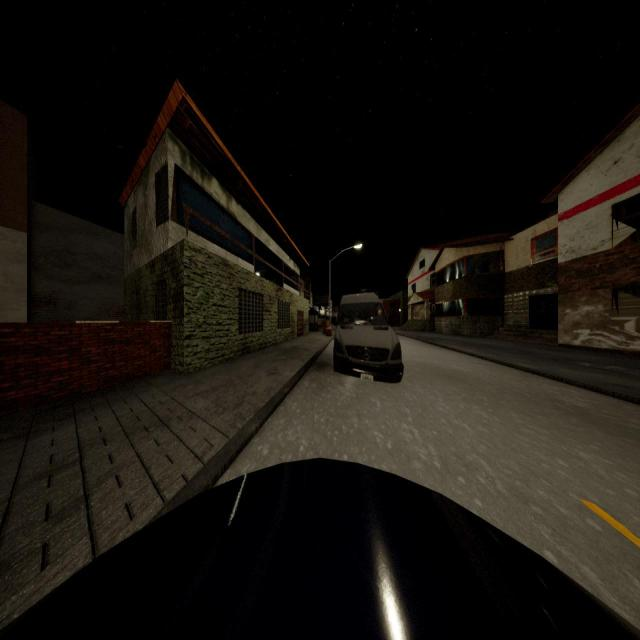Vehicle: (0, 453, 638, 640), (331, 293, 403, 381)
